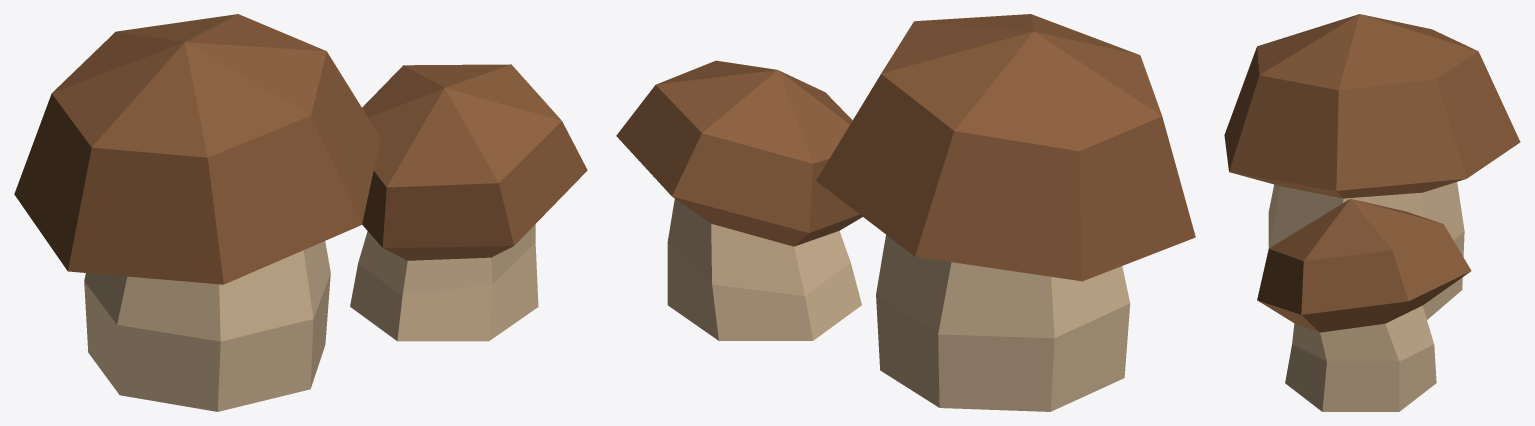
File: mushroom1.glb
3 views of the same model, side by side, from view 1: azimuth 30°, elevation 25°; view 2: azimuth 150°, elevation 25°; view 3: azimuth 270°, elevation 25° (orthographic). The views are drawn at different scales.
Visible parts, largest first — view 1: huitugou_2159_279; view 2: huitugou_2159_279; view 3: huitugou_2159_279.
Part boxes in pixels (x1,y1,x2,y2): huitugou_2159_279: (14,14,587,411); huitugou_2159_279: (616,14,1195,411); huitugou_2159_279: (1224,14,1520,411).
Size of the model in its own units: 0.3843 by 0.2356 by 0.2369.
1 material, 1 textured.
